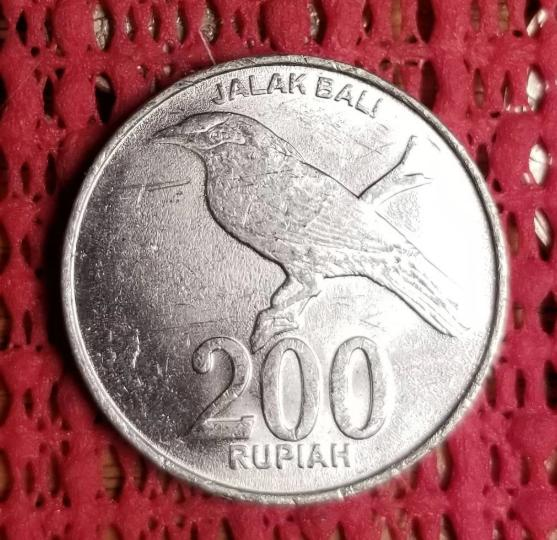coin_200_e2003: (59, 51, 512, 511)
